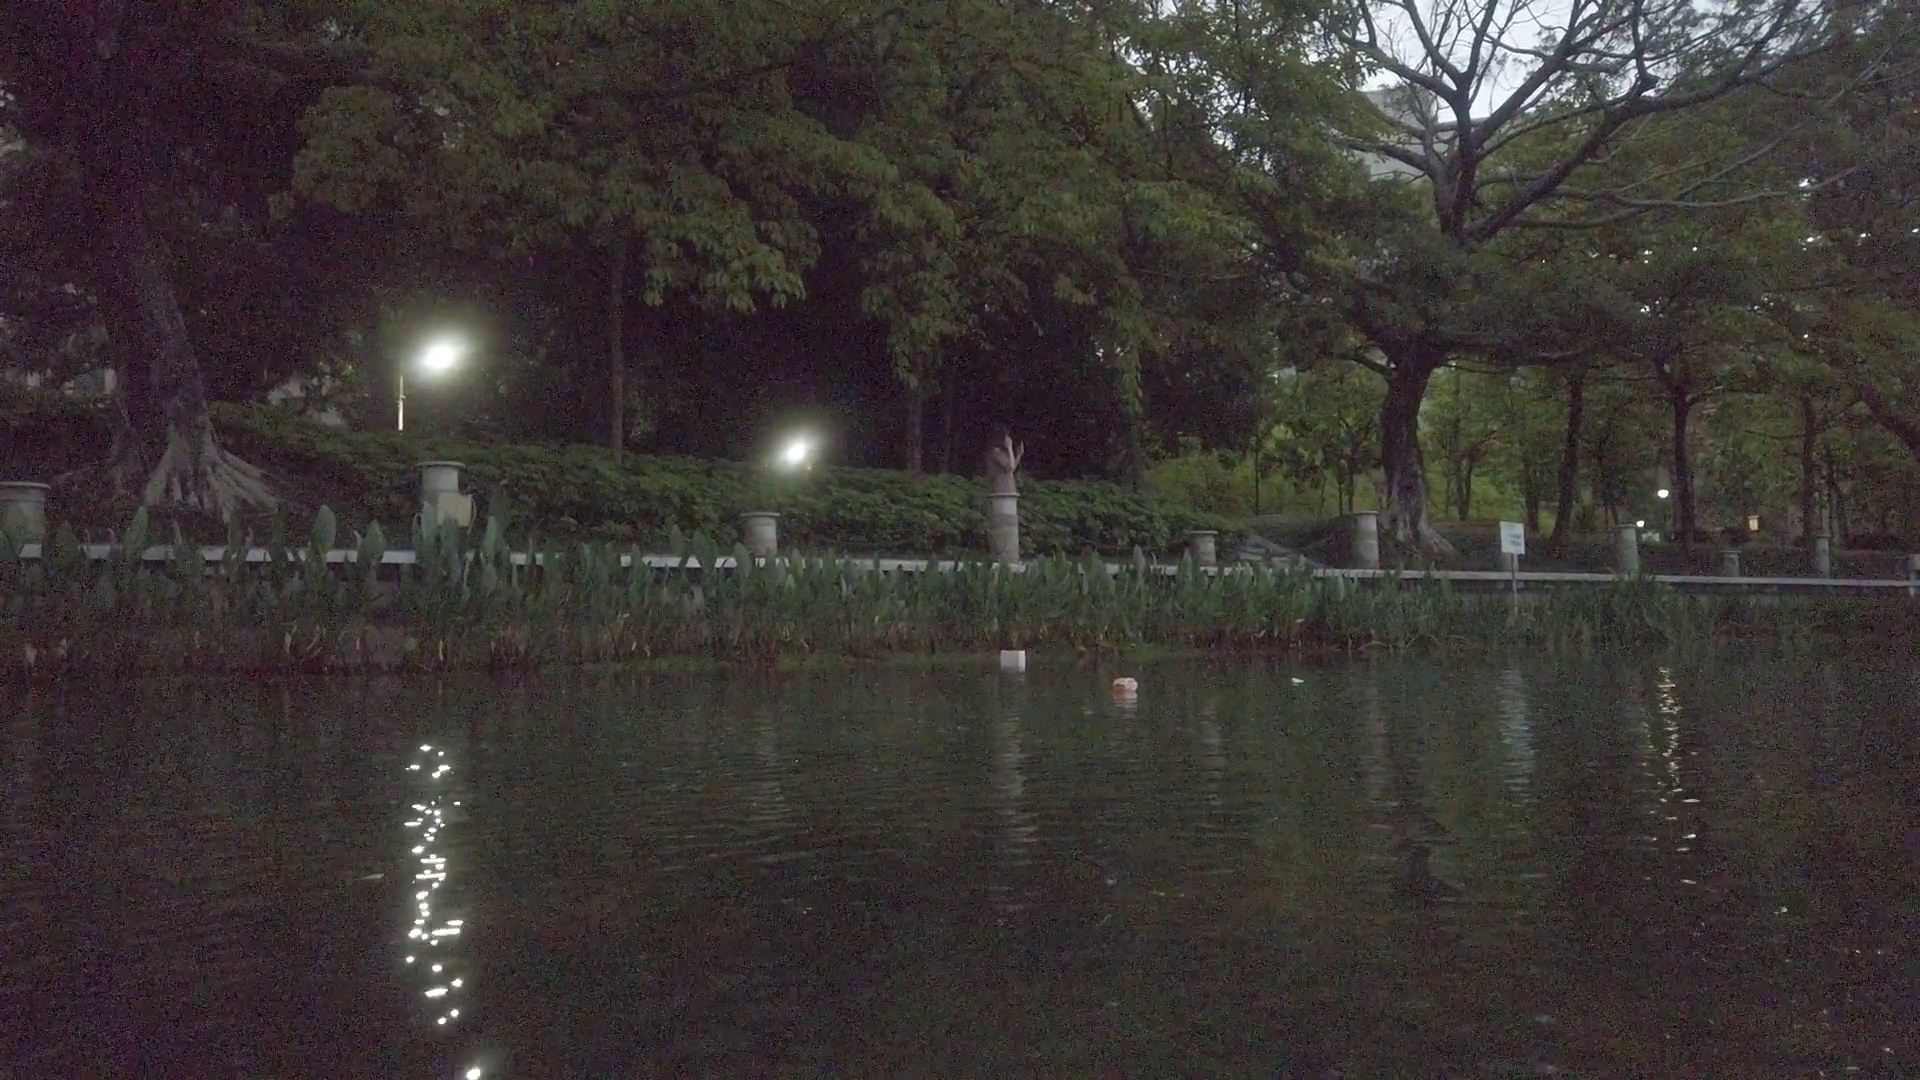bottle: (1113, 674, 1139, 694)
carton: (1000, 649, 1027, 663)
